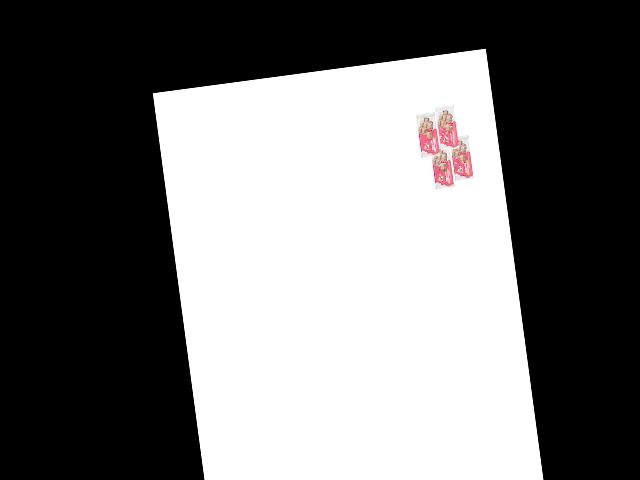chocolate: (445, 132, 476, 185)
